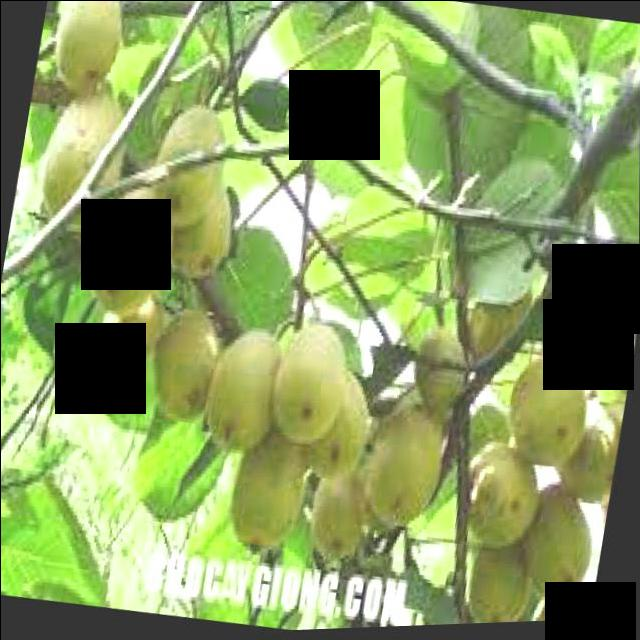kiwi: (35, 83, 131, 232), (224, 415, 314, 553), (360, 397, 450, 535), (85, 177, 172, 312), (266, 318, 353, 453), (200, 317, 285, 454), (503, 348, 592, 469), (148, 101, 231, 227), (516, 481, 601, 604), (454, 437, 542, 552), (294, 367, 374, 483), (160, 173, 239, 282), (149, 303, 220, 421), (463, 518, 539, 627), (47, 1, 128, 94), (461, 276, 534, 377), (307, 451, 374, 561), (558, 408, 621, 501), (97, 284, 164, 371), (409, 325, 469, 411), (526, 578, 595, 625)
